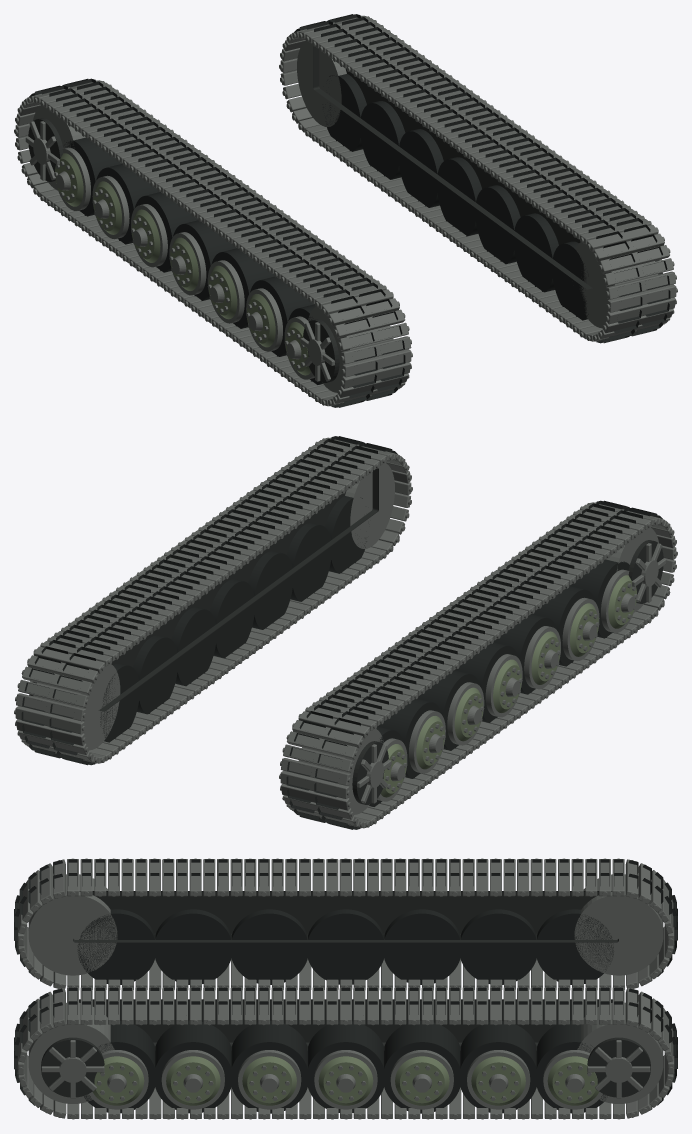
Rendered from tracks_1_7.glb.
3 renders of one model, top to bottom at view 1: azimuth 30°, elevation 25°; view 2: azimuth 150°, elevation 25°; view 3: azimuth 270°, elevation 25°, orthographic.
Parts seen in each view (by area): view 1: tracks.011; view 2: tracks.011; view 3: tracks.011.
Boxes of the visible parts, box(x1,y1,x2,y2) form: tracks.011: box(14, 14, 677, 407); tracks.011: box(14, 436, 677, 829); tracks.011: box(14, 858, 677, 1119).
Size of the model in its own units: 3.91 by 1.18 by 6.64.
